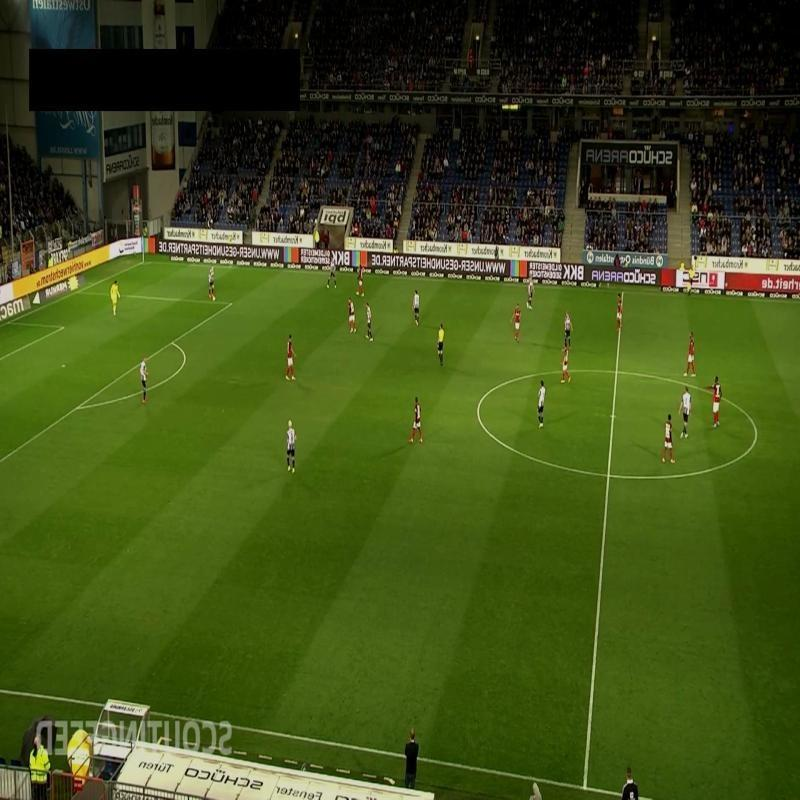1: (138, 254, 152, 268)
10: (166, 334, 180, 348)
11: (71, 400, 85, 415)
13: (615, 284, 629, 298)
14: (608, 362, 626, 382), (0, 118, 14, 132)
15: (601, 466, 617, 485)
16: (574, 777, 594, 798)
2: (70, 285, 84, 299)
3: (2, 316, 16, 330)
7: (55, 320, 69, 334)
9: (224, 297, 238, 311)
c: (470, 398, 489, 416), (748, 425, 762, 439)
